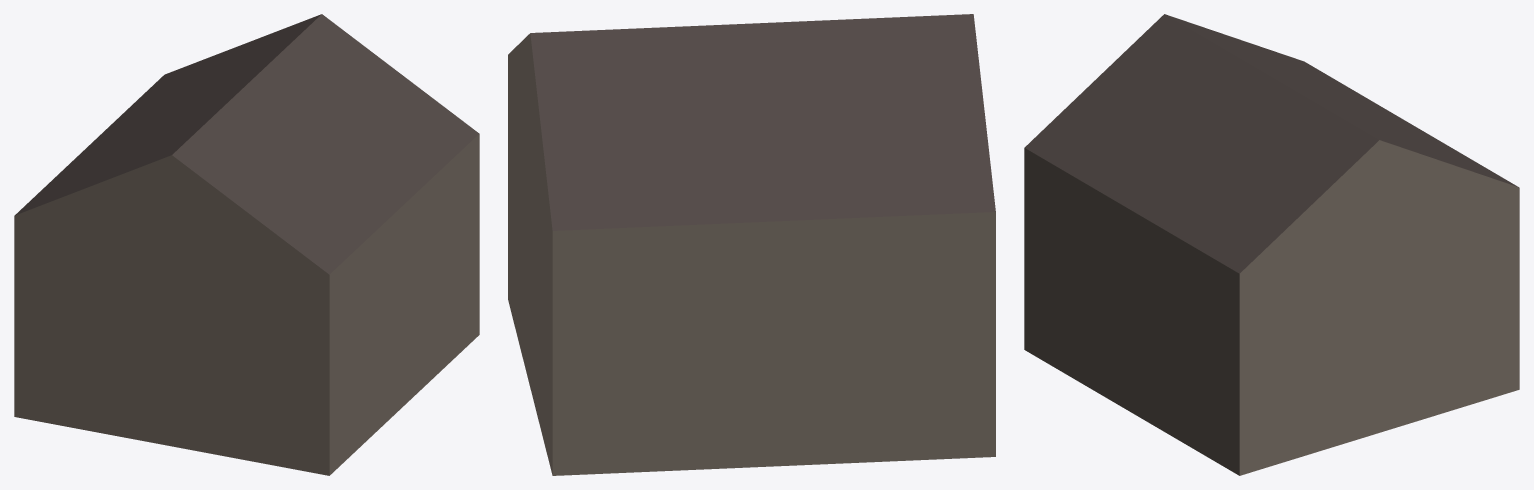
3 views of the same model, side by side, from view 1: azimuth 30°, elevation 25°; view 2: azimuth 150°, elevation 25°; view 3: azimuth 270°, elevation 25° (orthographic). The views are drawn at different scales.
Parts seen in each view (by area): view 1: HP-w1435294183; view 2: HP-w1435294183; view 3: HP-w1435294183.
Part boxes in pixels (box(x1,y1,x2,y2)): HP-w1435294183: box(14, 14, 479, 475); HP-w1435294183: box(508, 14, 995, 475); HP-w1435294183: box(1024, 14, 1519, 475).
Size of the model in its own units: 13.51 by 8.69 by 13.32.
